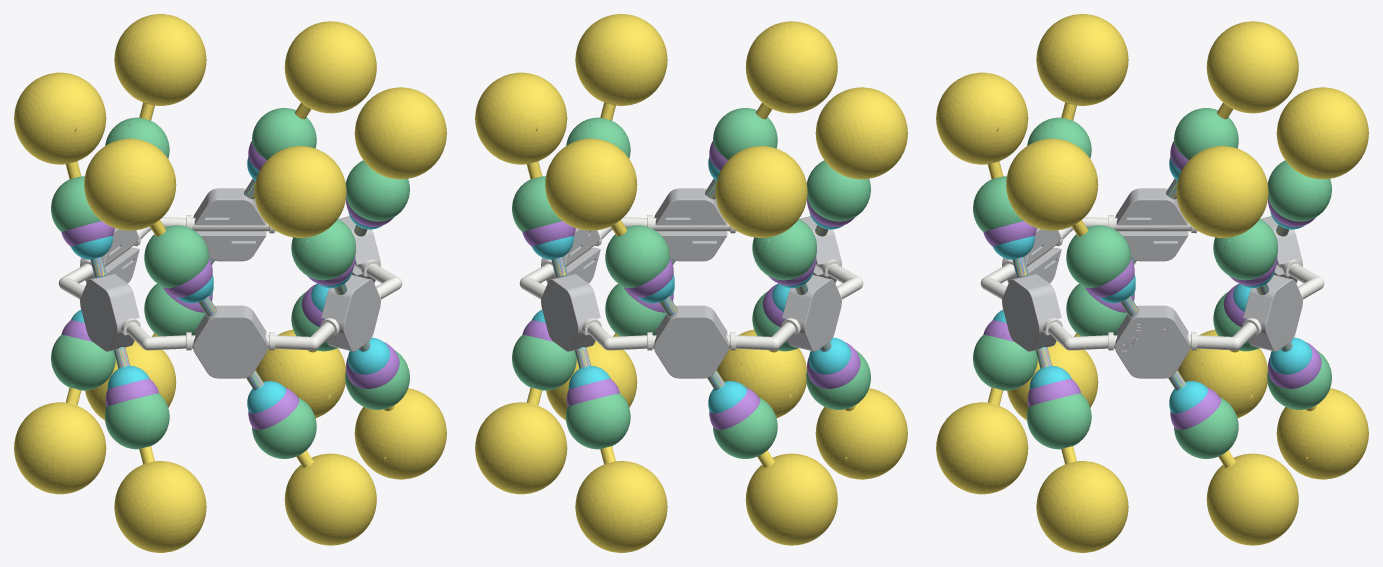
3 views of the same model, side by side, from view 1: azimuth 30°, elevation 25°; view 2: azimuth 150°, elevation 25°; view 3: azimuth 270°, elevation 25° (orthographic).
Visible parts, largest first — view 1: Arm_Bead27_L04, Arm_Bead27_U04, Arm_Bead27_U05, Arm_Bead27_U02, Arm_Bead27_L05, Arm_Bead27_L03, Arm_Bead27_U03, Arm_Bead27_U01, Arm_Bead27_U06, Arm_Bead27_L06, Ring_Frame, Hexagonal_Body_05 (+28 smaller); view 2: Arm_Bead27_L02, Arm_Bead27_U02, Arm_Bead27_U03, Arm_Bead27_U06, Arm_Bead27_L03, Arm_Bead27_L01, Arm_Bead27_U01, Arm_Bead27_U05, Arm_Bead27_U04, Arm_Bead27_L04, Ring_Frame, Hexagonal_Body_03 (+28 smaller); view 3: Arm_Bead27_L06, Arm_Bead27_U06, Arm_Bead27_U01, Arm_Bead27_U04, Arm_Bead27_L01, Arm_Bead27_L05, Arm_Bead27_U05, Arm_Bead27_U03, Arm_Bead27_U02, Arm_Bead27_L02, Ring_Frame, Hexagonal_Body_01 (+28 smaller).
Part boxes in pixels (x1=…): Arm_Bead27_L04: x1=114, y1=347, x2=206, y2=552; Arm_Bead27_U04: x1=14, y1=72, x2=106, y2=277; Arm_Bead27_U05: x1=84, y1=138, x2=216, y2=316; Arm_Bead27_U02: x1=244, y1=21, x2=376, y2=199; Arm_Bead27_L05: x1=246, y1=370, x2=376, y2=545; Arm_Bead27_L03: x1=14, y1=387, x2=106, y2=494; Arm_Bead27_U03: x1=114, y1=14, x2=206, y2=120; Arm_Bead27_U01: x1=354, y1=87, x2=446, y2=236; Arm_Bead27_U06: x1=254, y1=146, x2=346, y2=294; Arm_Bead27_L06: x1=354, y1=343, x2=446, y2=479; Ring_Frame: x1=58, y1=215, x2=402, y2=350; Hexagonal_Body_05: x1=193, y1=305, x2=267, y2=378; Arm_Bead27_L02: x1=575, y1=347, x2=667, y2=552; Arm_Bead27_U02: x1=475, y1=72, x2=567, y2=277; Arm_Bead27_U03: x1=545, y1=138, x2=677, y2=316; Arm_Bead27_U06: x1=705, y1=21, x2=837, y2=199; Arm_Bead27_L03: x1=707, y1=370, x2=837, y2=545; Arm_Bead27_L01: x1=475, y1=387, x2=567, y2=494; Arm_Bead27_U01: x1=575, y1=14, x2=667, y2=120; Arm_Bead27_U05: x1=815, y1=87, x2=907, y2=236; Arm_Bead27_U04: x1=715, y1=146, x2=807, y2=294; Arm_Bead27_L04: x1=815, y1=343, x2=907, y2=479; Ring_Frame: x1=519, y1=215, x2=863, y2=350; Hexagonal_Body_03: x1=654, y1=305, x2=728, y2=378; Arm_Bead27_L06: x1=1036, y1=348, x2=1128, y2=552; Arm_Bead27_U06: x1=936, y1=72, x2=1028, y2=277; Arm_Bead27_U01: x1=1006, y1=138, x2=1138, y2=316; Arm_Bead27_U04: x1=1166, y1=21, x2=1298, y2=199; Arm_Bead27_L01: x1=1168, y1=370, x2=1298, y2=545; Arm_Bead27_L05: x1=936, y1=387, x2=1028, y2=494; Arm_Bead27_U05: x1=1036, y1=14, x2=1128, y2=120; Arm_Bead27_U03: x1=1276, y1=87, x2=1368, y2=236; Arm_Bead27_U02: x1=1176, y1=146, x2=1268, y2=294; Arm_Bead27_L02: x1=1276, y1=343, x2=1368, y2=479; Ring_Frame: x1=980, y1=215, x2=1324, y2=350; Hexagonal_Body_01: x1=1115, y1=305, x2=1189, y2=378.
Bounding box in the file's own units: 0.1186 × 0.1288 × 0.1268.
